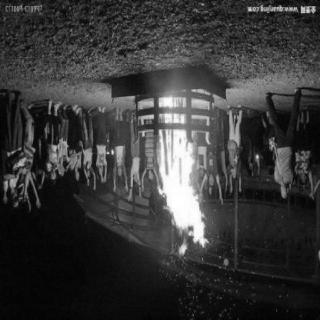Fire: (153, 95, 213, 262)
other: (225, 137, 251, 195), (43, 121, 65, 175), (22, 143, 39, 185), (297, 150, 311, 179)
